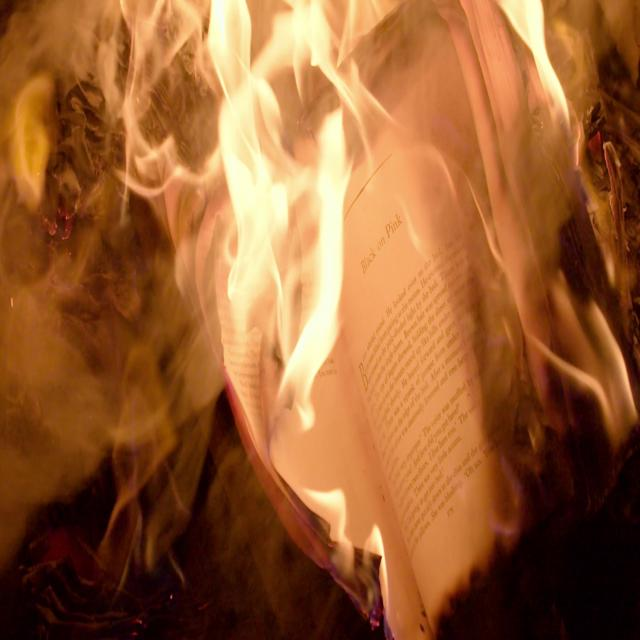Fire: (1, 0, 639, 609)
